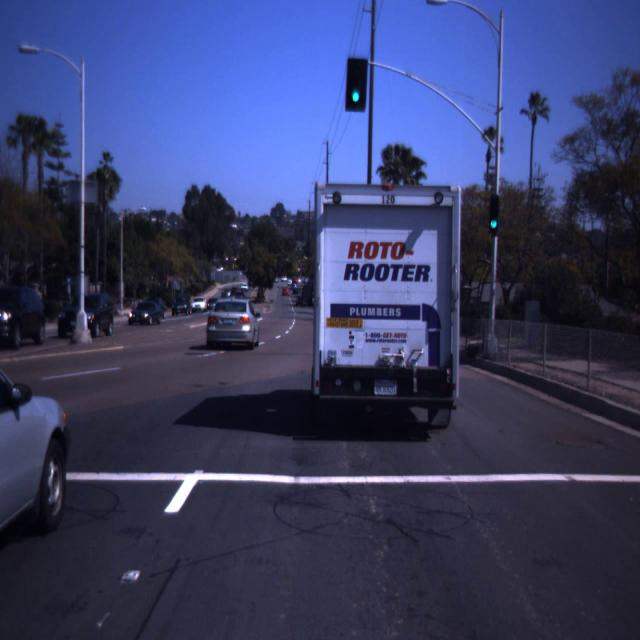yesil: (345, 59, 368, 112), (489, 195, 499, 237)
